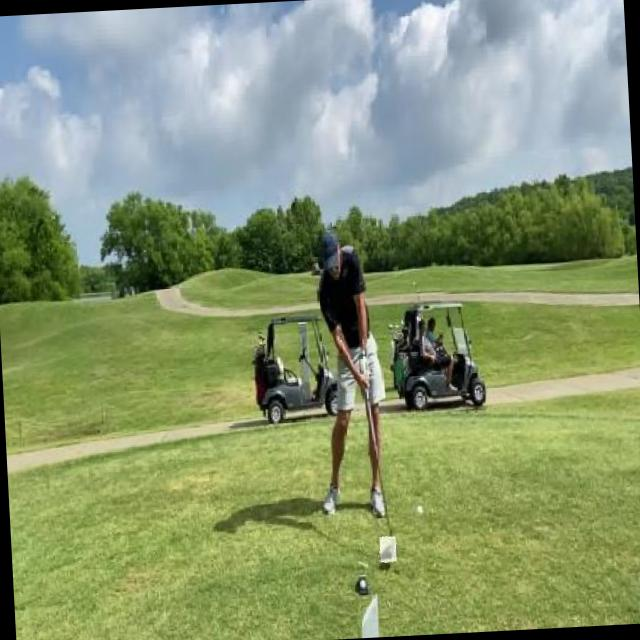club head: (379, 536, 396, 562)
